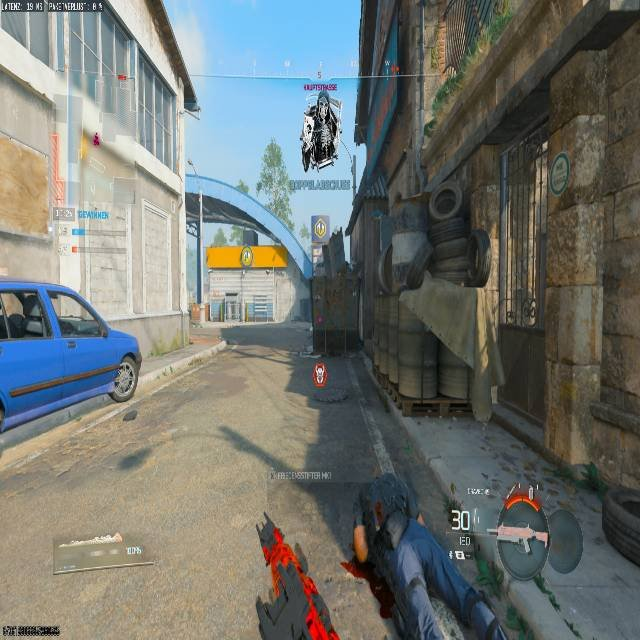player: (301, 96, 340, 170)
